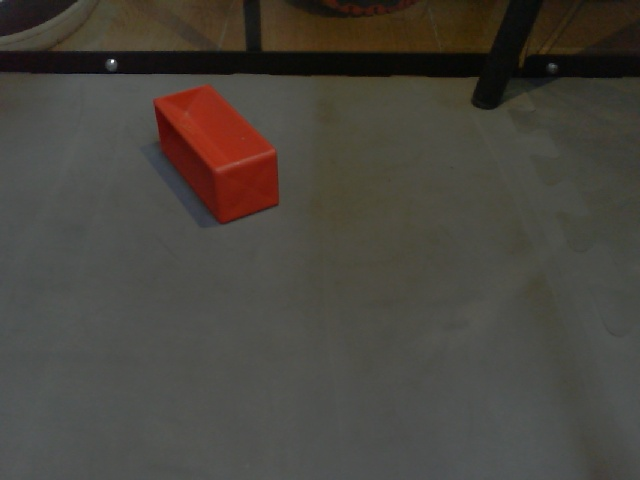RedSample: (151, 85, 289, 223)
